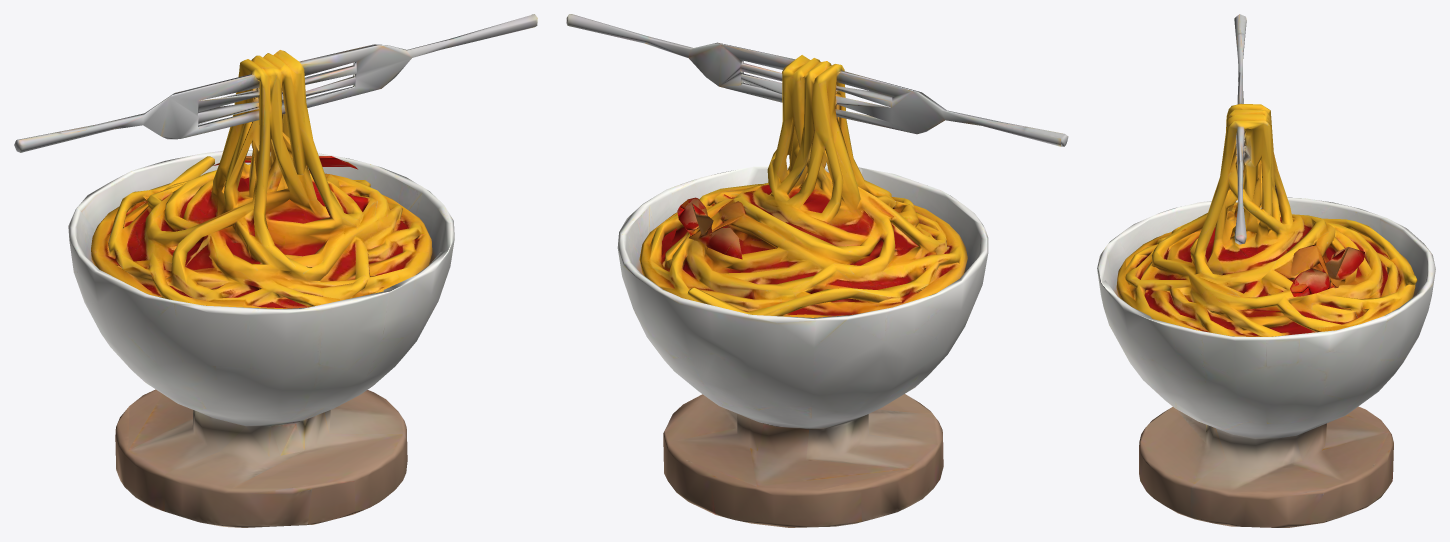
File: token-pasta.glb
3 renders of one model, left to right at view 1: azimuth 30°, elevation 25°; view 2: azimuth 150°, elevation 25°; view 3: azimuth 270°, elevation 25°, orthographic. The views are drawn at different scales.
Size of the model in its own units: 1.89 by 1.45 by 1.22.
1 material, 1 textured.
